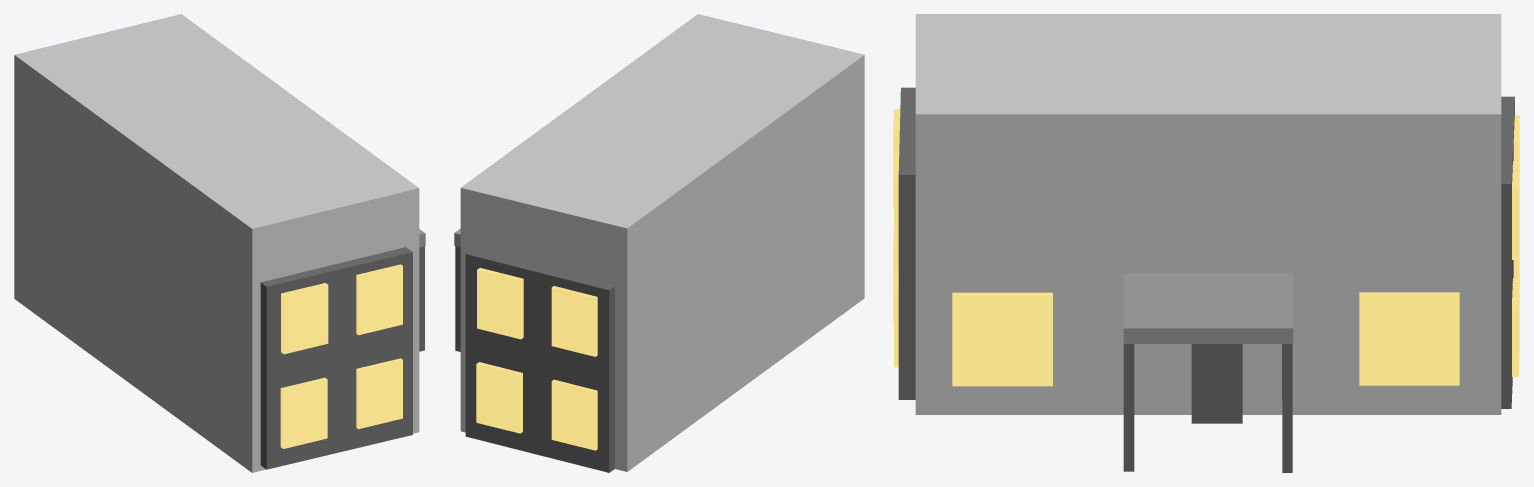
File: sale.glb
The picture shows the model from 3 angles, left to right: view 1: azimuth 30°, elevation 25°; view 2: azimuth 150°, elevation 25°; view 3: azimuth 270°, elevation 25°; orthographic projection. The views are drawn at different scales.
Parts seen in each view (by area): view 1: Cube; view 2: Cube; view 3: Cube.
Boxes of the visible parts, x1,y1,x2,y2 form: Cube: [14, 14, 425, 472]; Cube: [454, 14, 864, 472]; Cube: [893, 14, 1519, 472].
Bounding box in the file's own units: 7.3 × 6.68 × 12.46.
